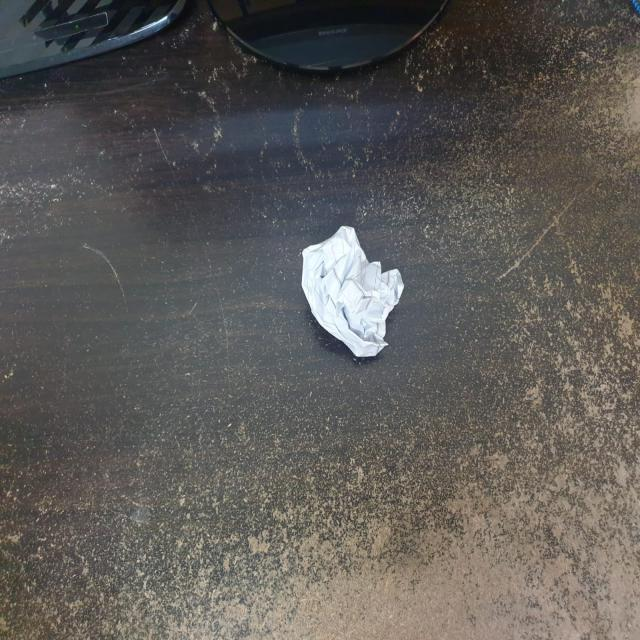Paper: (303, 227, 403, 351)
